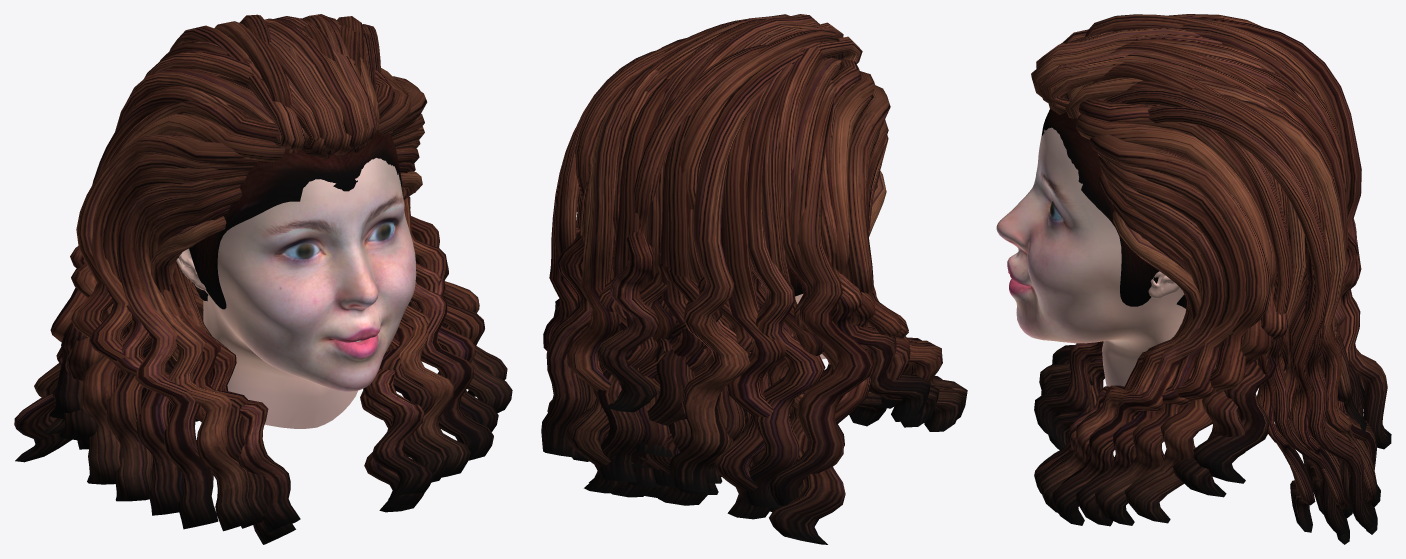
The model's file is ooh_q.obj.
The picture shows the model from 3 angles, left to right: view 1: azimuth 30°, elevation 25°; view 2: azimuth 150°, elevation 25°; view 3: azimuth 270°, elevation 25°; orthographic projection. The views are drawn at different scales.
Parts seen in each view (by area): view 1: ooh_q; view 2: ooh_q; view 3: ooh_q.
Boxes of the visible parts, <box> form: ooh_q: <box>14,14,512,544</box>; ooh_q: <box>541,14,967,544</box>; ooh_q: <box>996,14,1391,544</box>.
Size of the model in its own units: 365 by 387 by 298.
